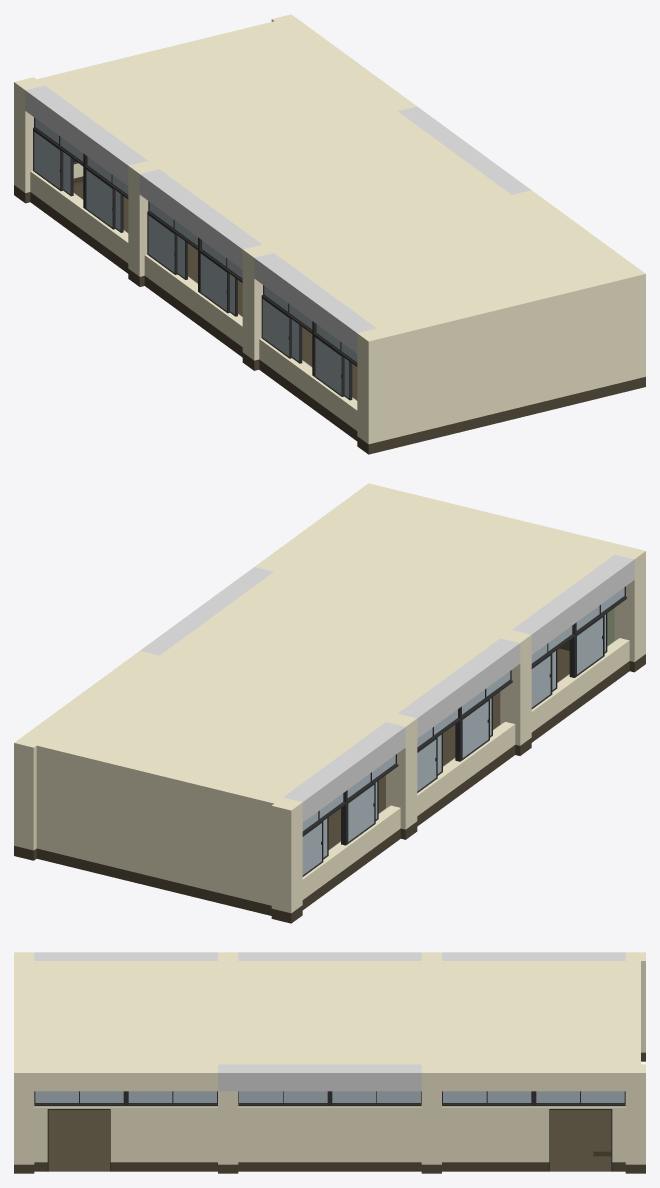
3 renders of one model, top to bottom at view 1: azimuth 30°, elevation 25°; view 2: azimuth 150°, elevation 25°; view 3: azimuth 270°, elevation 25°, orthographic. The views are drawn at different scales.
Parts seen in each view (by area): view 1: Chair.015; view 2: Chair.015; view 3: Chair.015.
Part boxes in pixels (x1,y1,x2,y2): Chair.015: (14, 14, 645, 454); Chair.015: (14, 483, 645, 923); Chair.015: (14, 952, 645, 1173).
Size of the model in its own units: 8.53 by 3.33 by 18.9.
15 materials, 2 textured.
